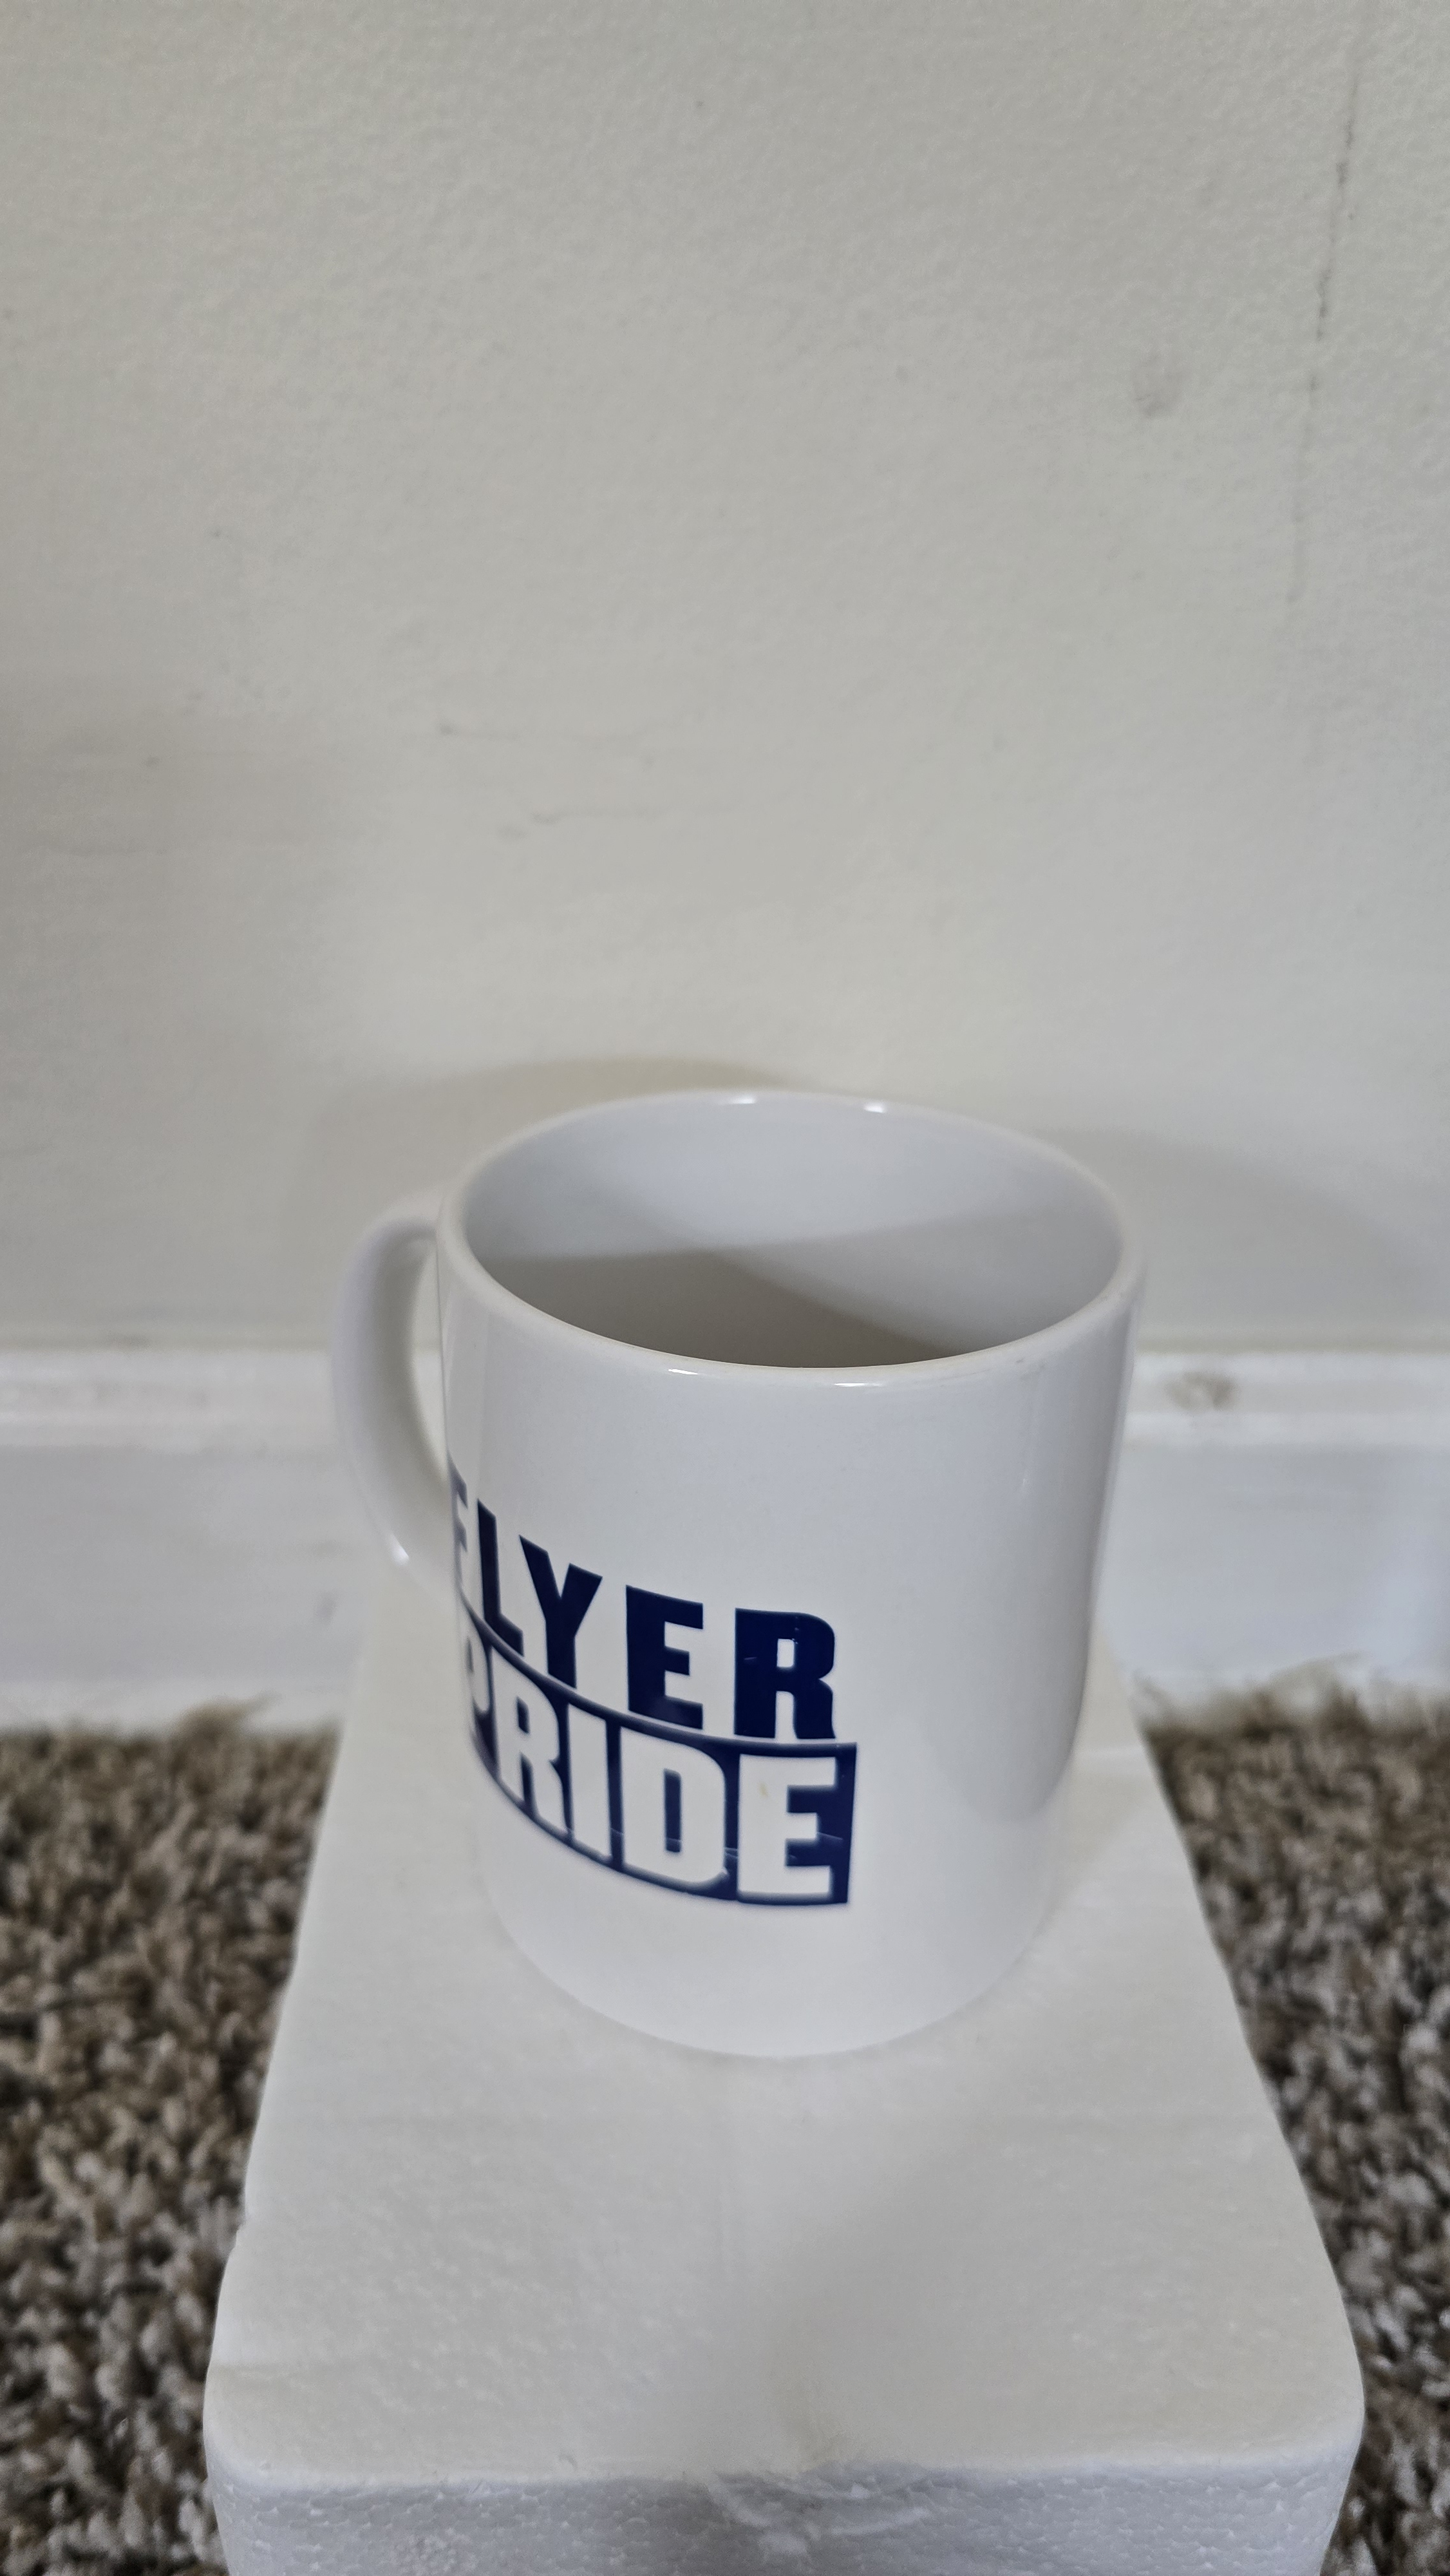mug: (299, 1010, 1211, 2077)
